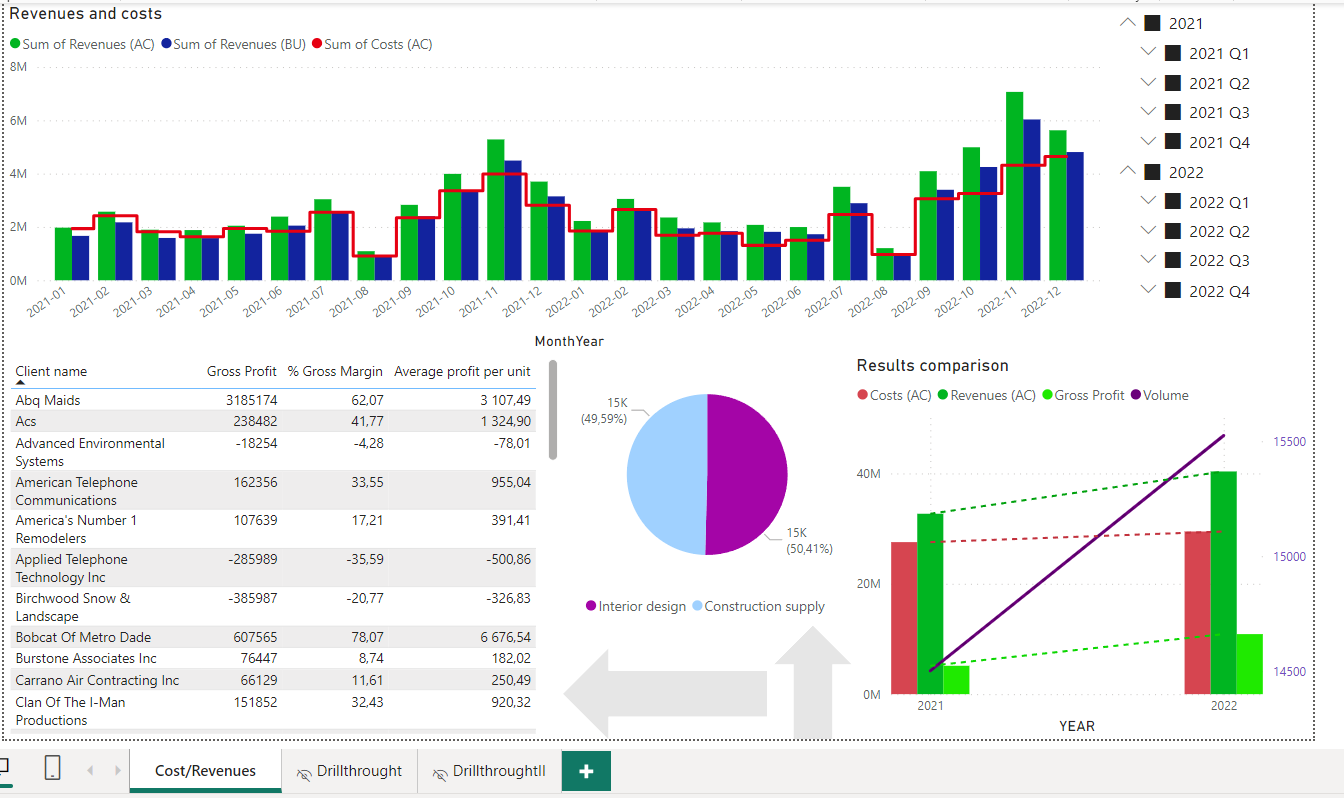

This screenshot's page, from the dashboard's own definition file:
{"tool":"powerbi","page":{"name":"Cost/Revenues","canvas":[1280,720],"ordinal":0},"visuals":[{"type":"lineClusteredColumnComboChart","title":"Revenues and costs","fields":{"Category":["DateTable.YEAR Hierarchy.YEAR","DateTable.YEAR Hierarchy.Quarter","DateTable.YEAR Hierarchy.MonthYear"],"Y":["Sum(Table_1.Revenues (AC))","Sum(Table_1.Revenues (BU))"],"Y2":["Sum(Table_1.Costs (AC))"]},"box":[0,0,1078.2,343.9],"z":0},{"type":"slicer","fields":{"Values":["DateTable.YEAR Hierarchy.YEAR","DateTable.YEAR Hierarchy.Quarter","DateTable.YEAR Hierarchy.MonthYear"]},"box":[1078.2,0,201.5,343.9],"z":1000},{"type":"tableEx","fields":{"Values":["Table_2.Client name","Table_1.Gross Profit","Table_1.% Gross Margin","Table_1.Average profit per unit"]},"box":[0,343.9,546.3,376.1],"z":2000},{"type":"lineClusteredColumnComboChart","title":"Results comparison","fields":{"Category":["DateTable.YEAR Hierarchy.YEAR"],"Y":["Sum(Table_1.Costs (AC))","Sum(Table_1.Revenues (AC))","Table_1.Gross Profit"],"Y2":["Sum(Table_1.Volume)"]},"box":[829.3,343.9,450.4,376.1],"z":3000},{"type":"pieChart","fields":{"Category":["Table_3.Business line name"],"Y":["Sum(Table_1.Volume)"]},"box":[546.3,343.9,283,265.1],"z":4000},{"type":"shape","title":"Business ","box":[753.1,609,76.1,111],"z":5000},{"type":"shape","box":[546.3,630.4,199.7,89.6],"z":6000}]}

Visuals, with their boxes on the page's 1280x720 design canvas (x1, y1, x2, y2). These are canvas units, not pixel positions in the 1344x798 screenshot, which may show the page scaled, cropped or inside an application window:
"Revenues and costs" lineClusteredColumnComboChart: locate(0, 0, 1078, 344)
slicer - DateTable.YEAR Hierarchy.YEAR x DateTable.YEAR Hierarchy.Quarter: locate(1078, 0, 1280, 344)
tableEx - Table_2.Client name x Table_1.Gross Profit: locate(0, 344, 546, 720)
"Results comparison" lineClusteredColumnComboChart: locate(829, 344, 1280, 720)
pieChart - Table_3.Business line name x Sum(Table_1.Volume): locate(546, 344, 829, 609)
"Business " shape: locate(753, 609, 829, 720)
shape: locate(546, 630, 746, 720)
